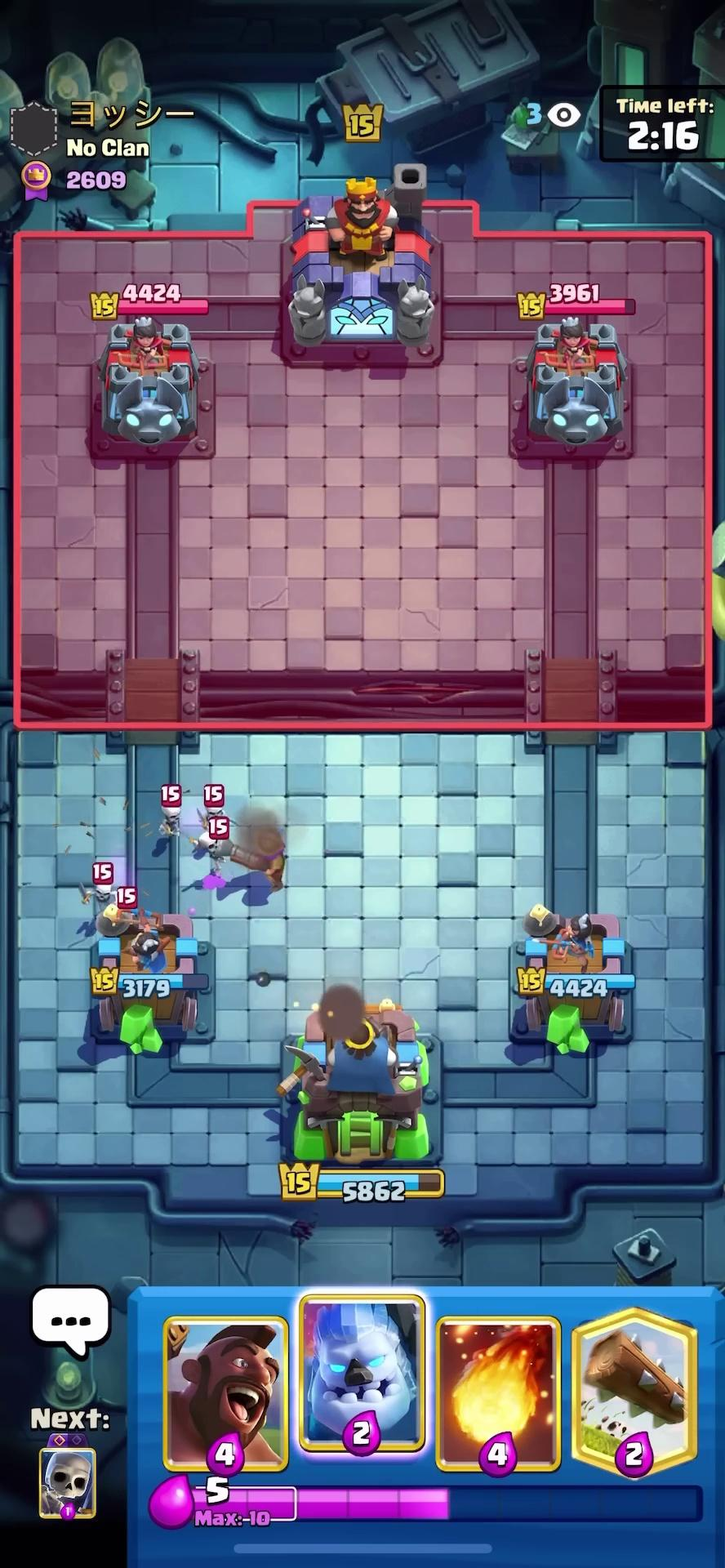musketeer: (214, 817, 312, 888)
